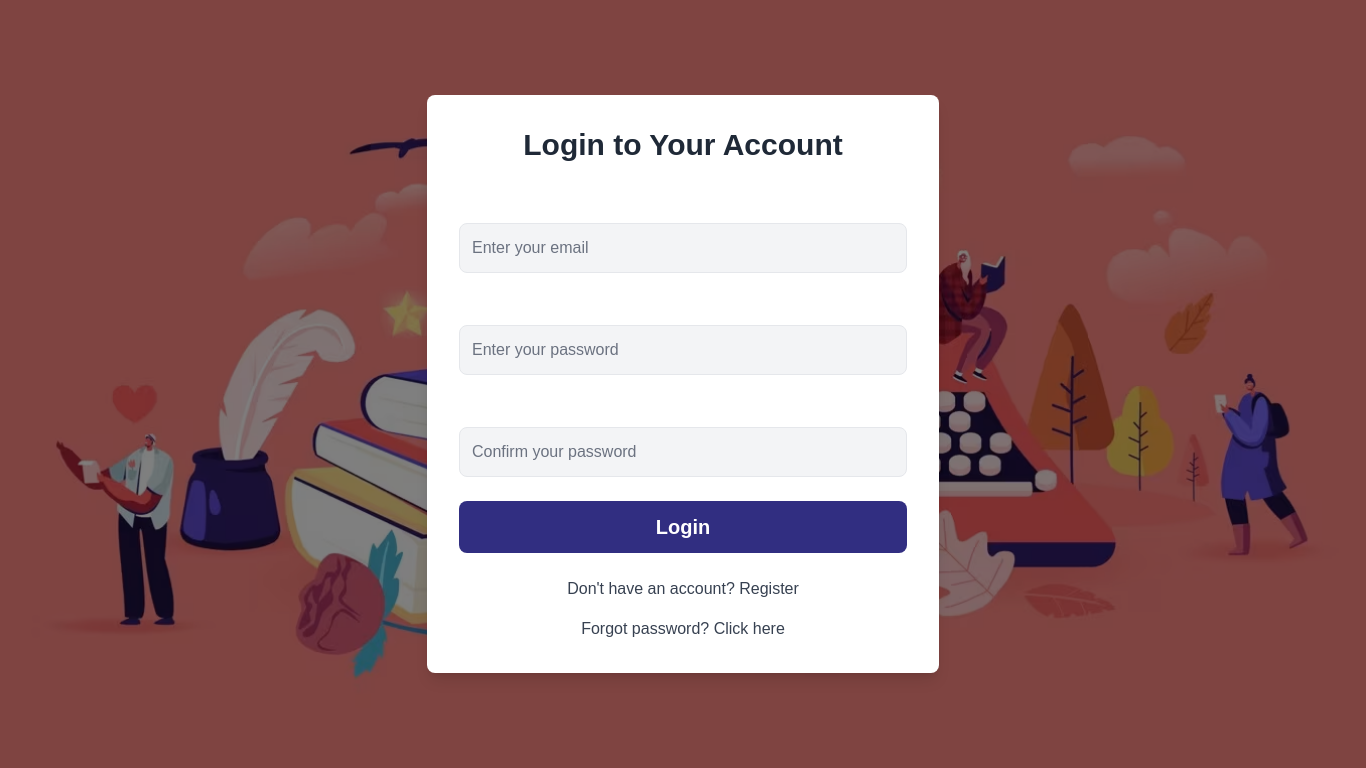
Scenario: LoginPage › should handle login failure
This screenshot has width=1366, height=768.
In the field labelled "Email": [683, 248] box x1=459 y1=223 x2=907 y2=273, type "test@example.com"
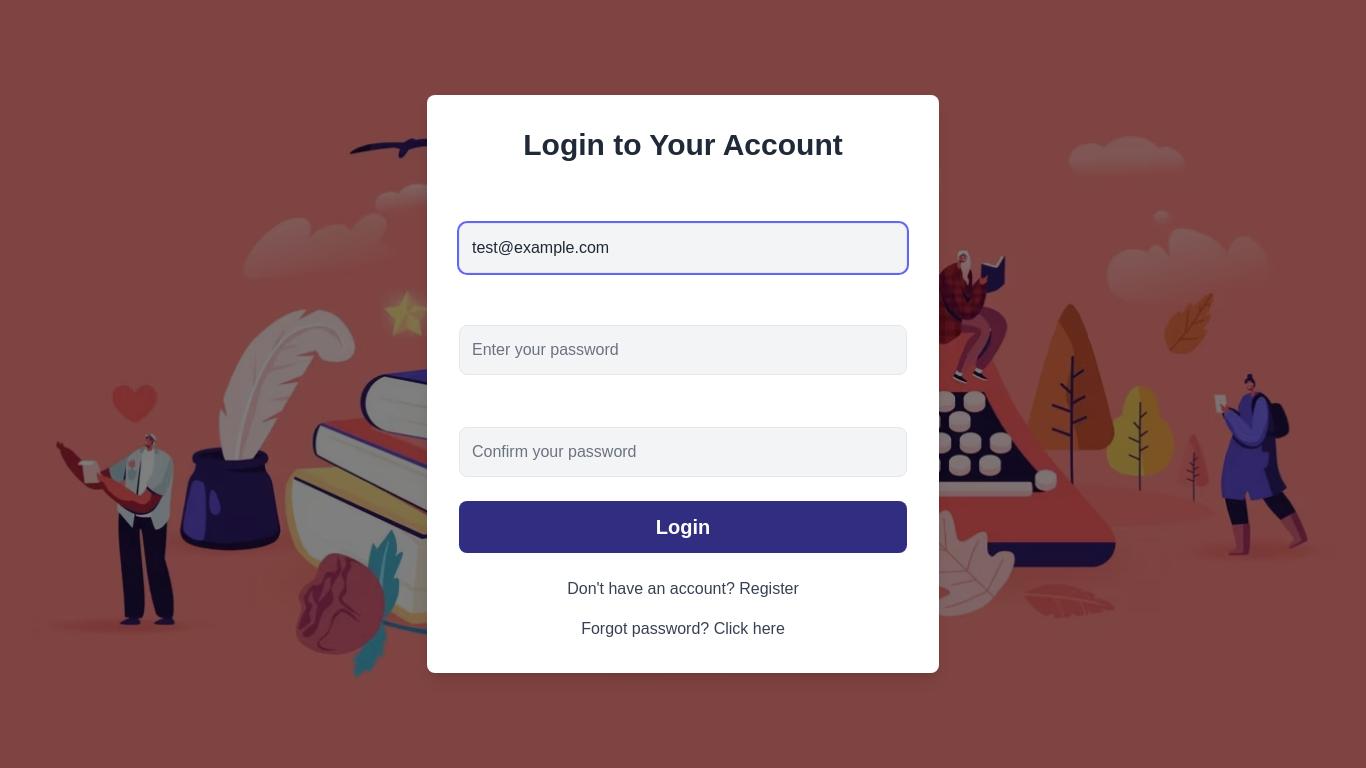
In the password field labelled "Password": [683, 350] box x1=459 y1=325 x2=907 y2=375, type "password123"
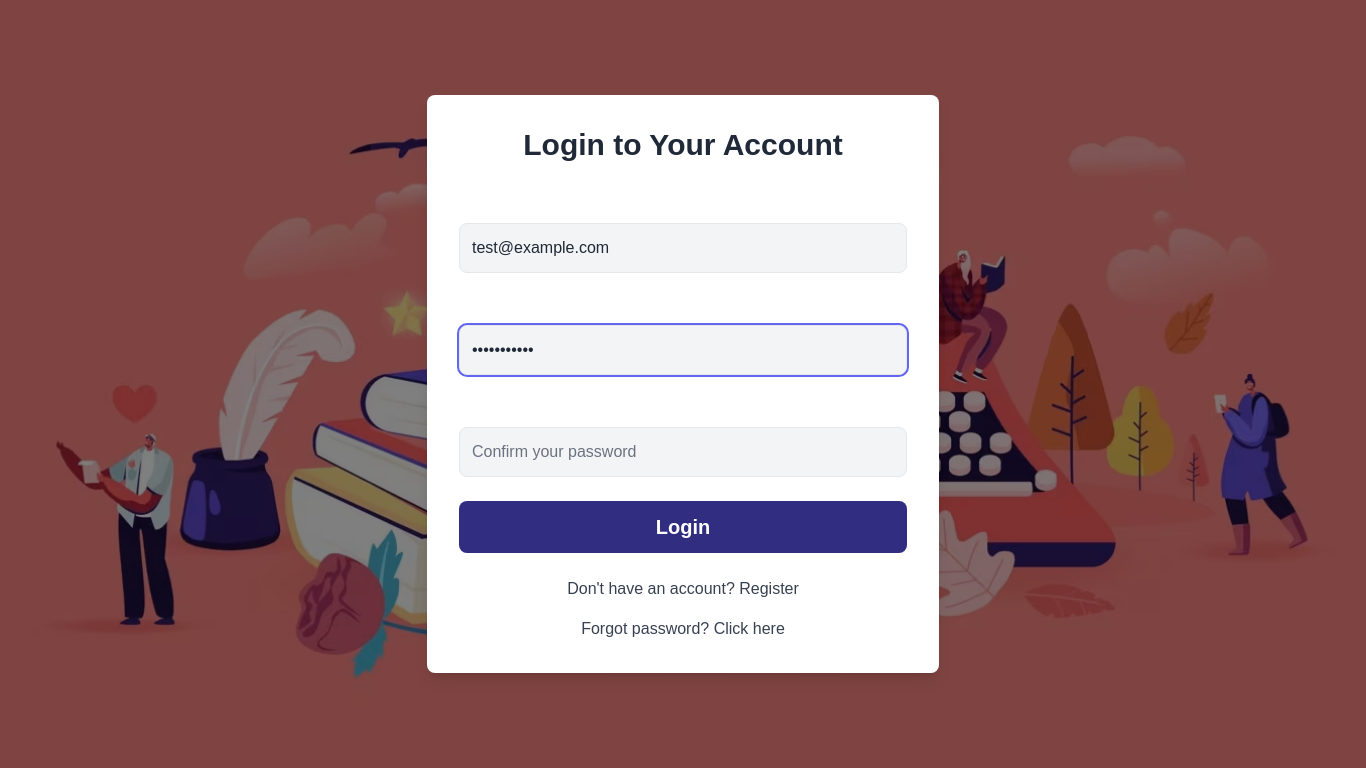
In the password field labelled "Confirm Password": [683, 452] box x1=459 y1=427 x2=907 y2=477, type "password123"
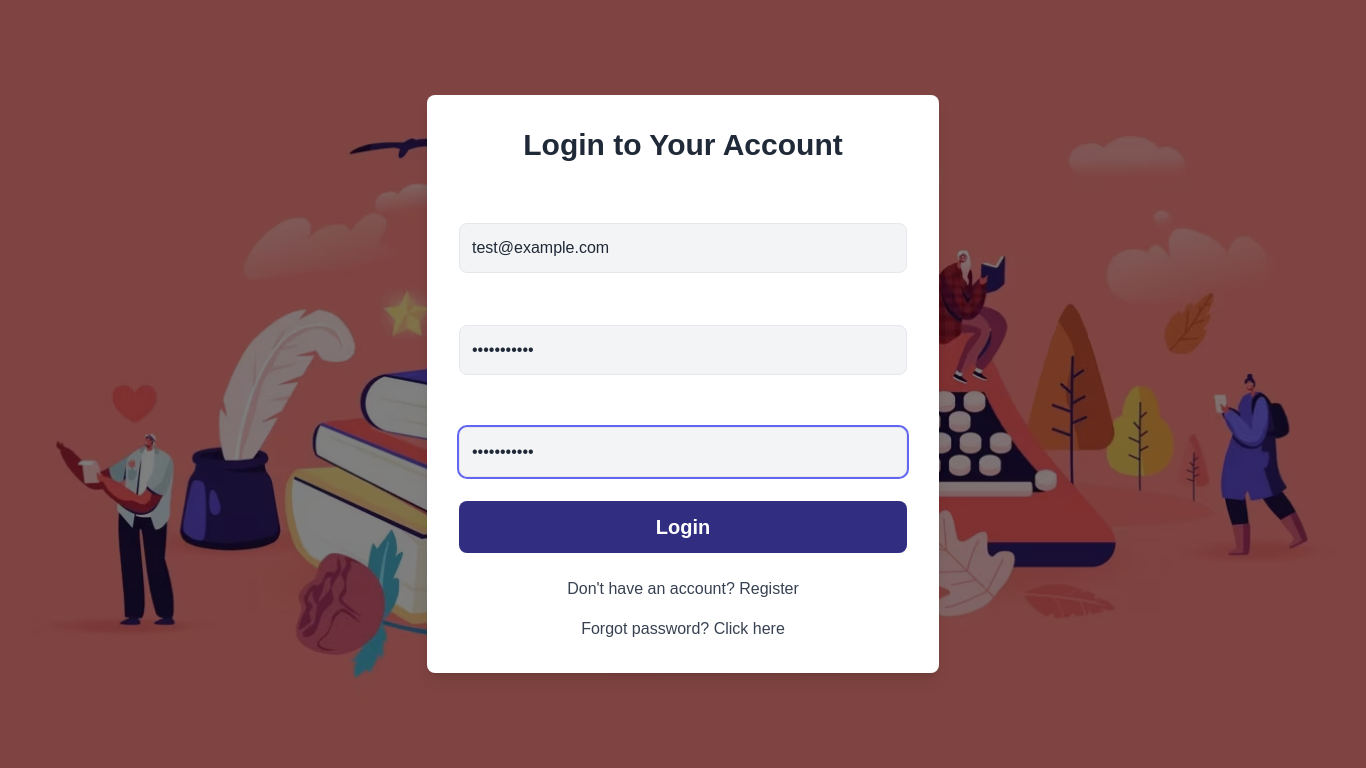
Click the button "Login": [683, 527] box x1=459 y1=501 x2=907 y2=553
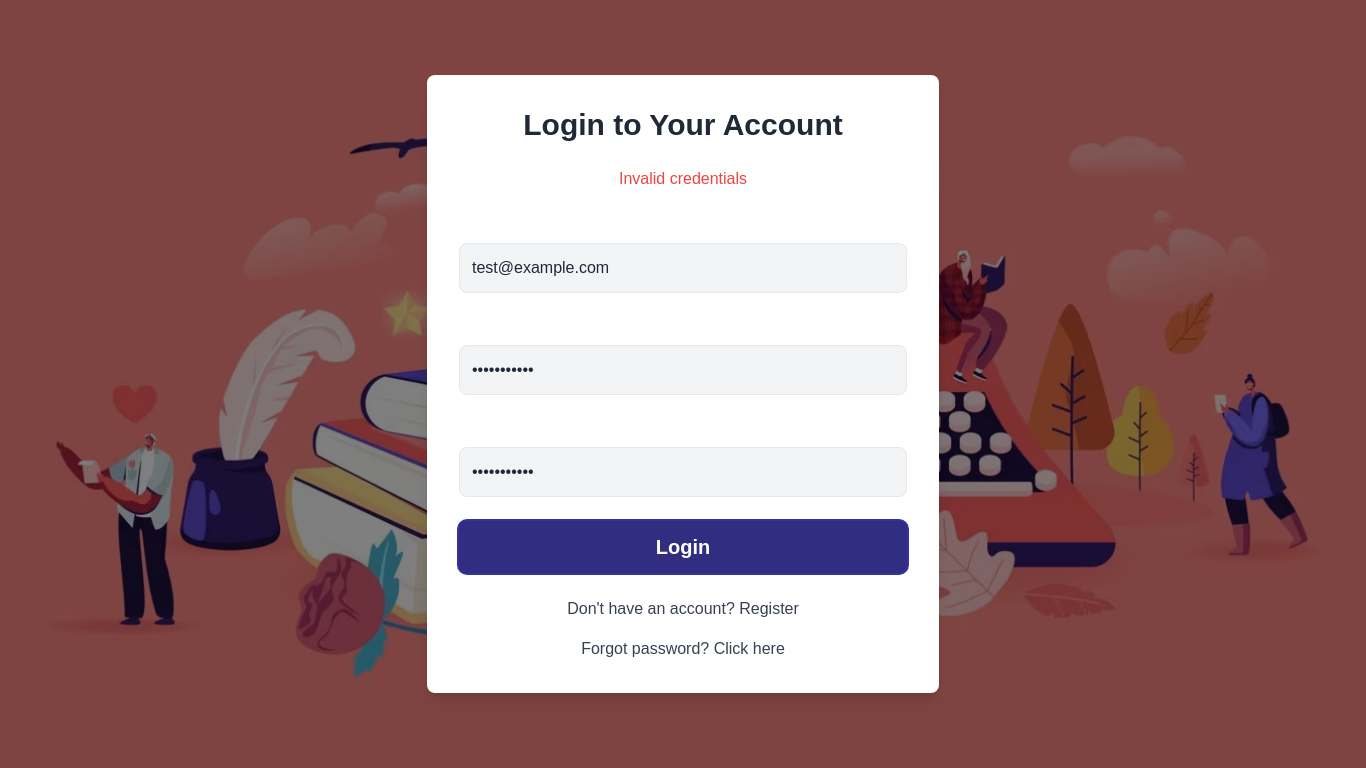
Expected: the text "Invalid credentials" is shown, x1=619 y1=170 x2=747 y2=187
